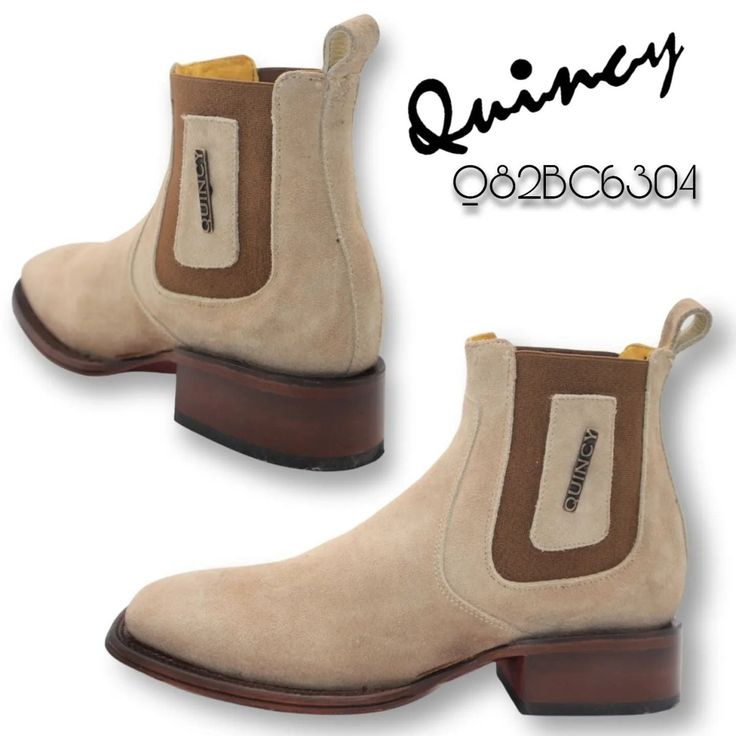gamuza: (22, 12, 711, 695)
